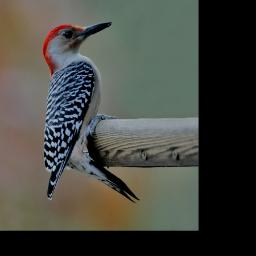Woodpecker: (33, 14, 147, 216)
